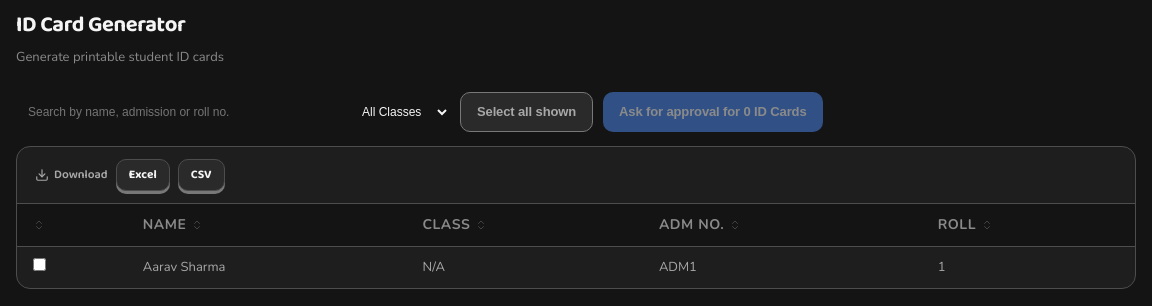
Scenario: asking for approval sends one request covering the whole batch
Expected: the text "Aarav Sharma" is shown, [127, 247, 406, 288]
Click the button "Select all shown" at (527, 112), box [460, 92, 593, 132]
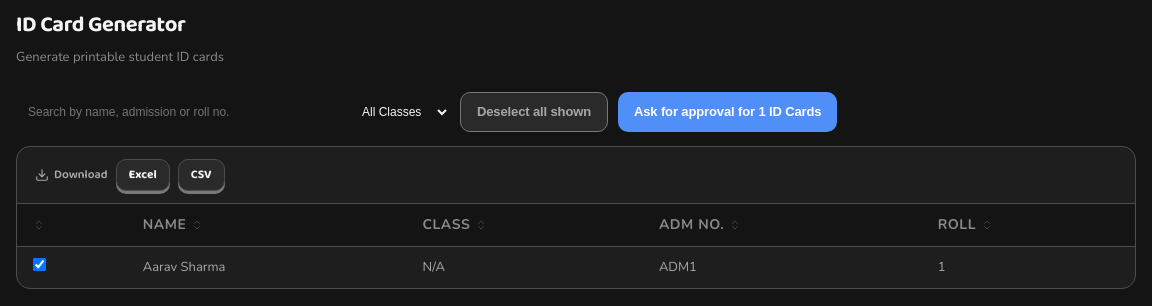
Click the button "Ask for approval for 1 ID Cards" at (728, 112), box [618, 92, 837, 132]
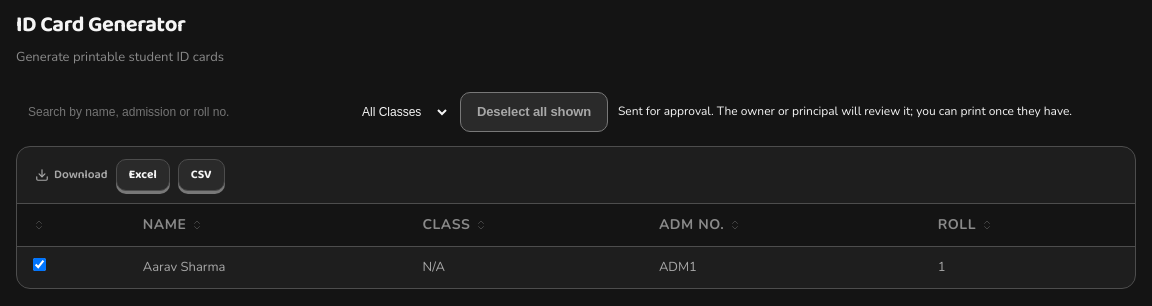
Expected: the text with test id "id-card-awaiting" is shown, [618, 102, 1072, 122]
